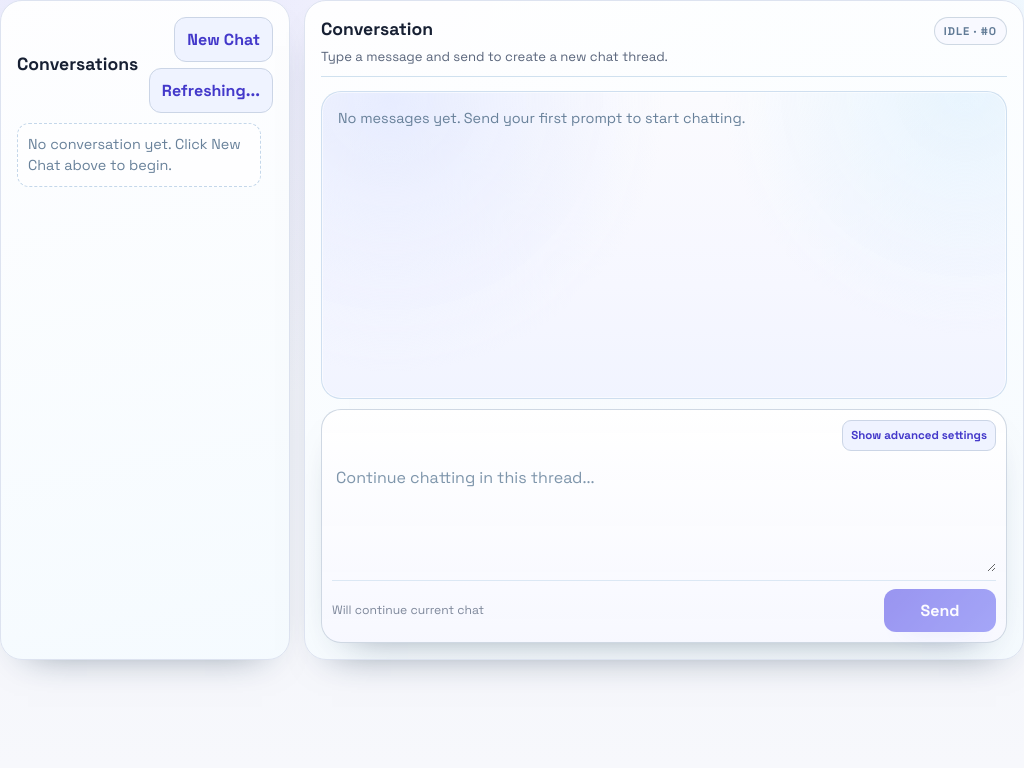
Test case: ClientChatPanel › shows a fallback message when the tool catalog fails to load
Click the button "Show advanced settings": coordinates (919, 435) [842,420,996,451]
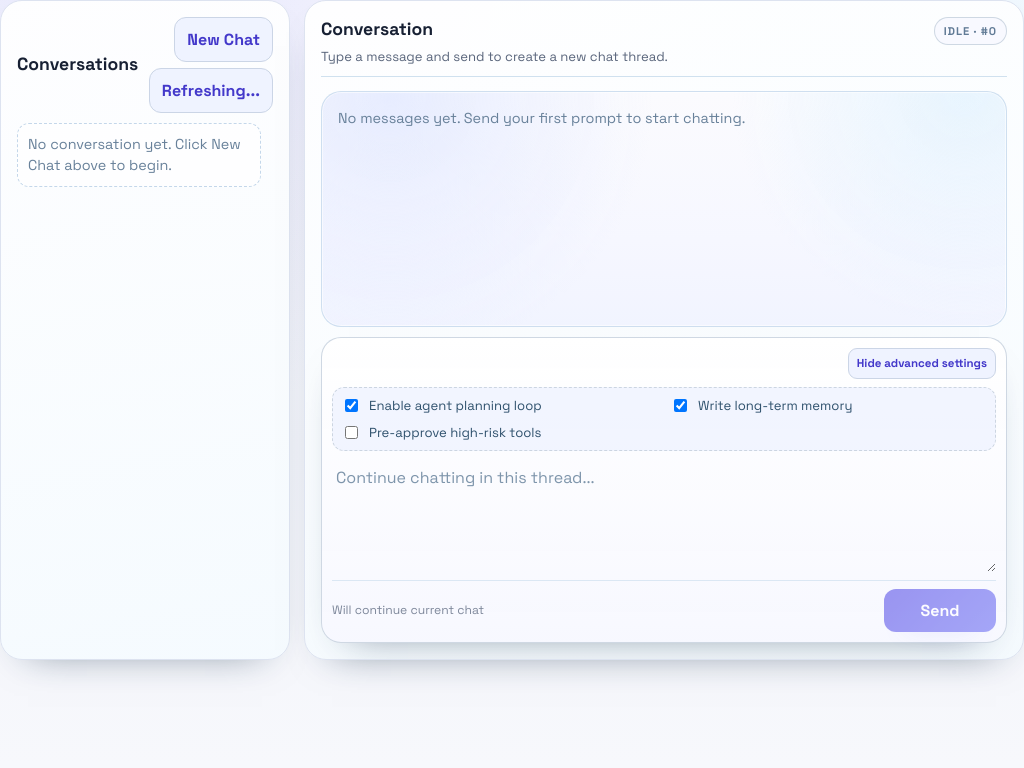
Click the checkbox labelled "Pre-approve high-risk tools": coordinates (352, 432) [345,426,358,439]
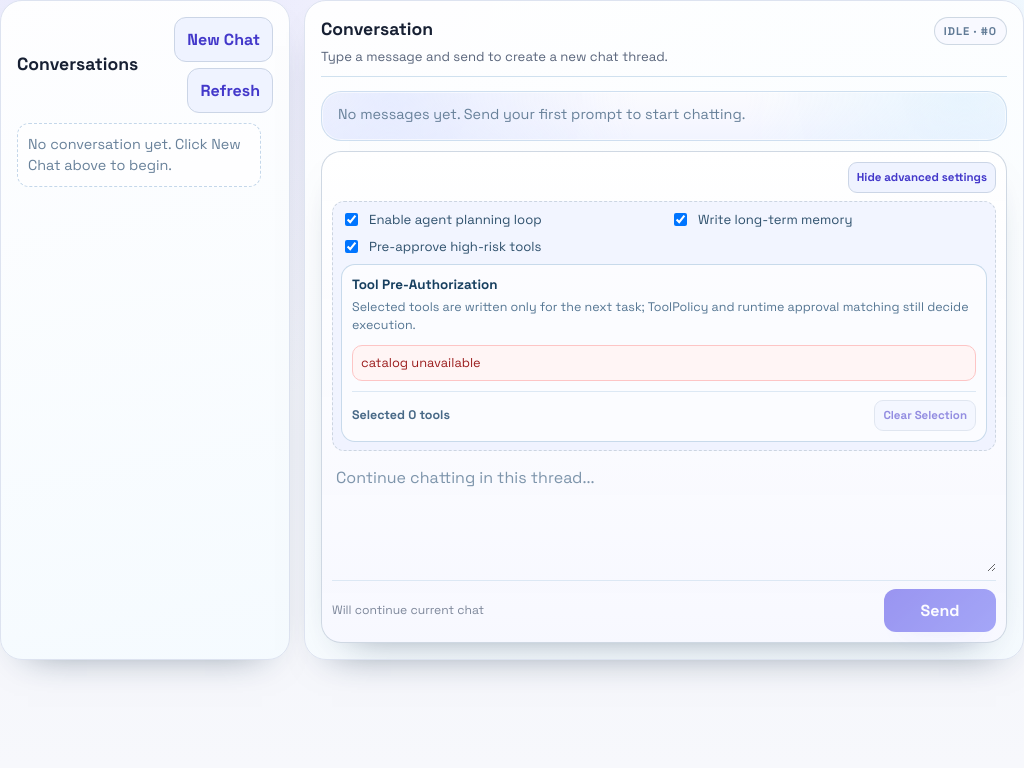
Result: the text "catalog unavailable" is shown at [352,344,976,381]
